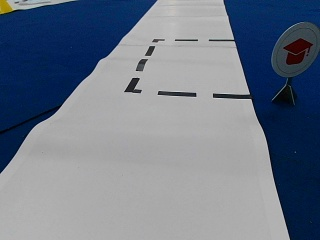school: (271, 23, 318, 76)
